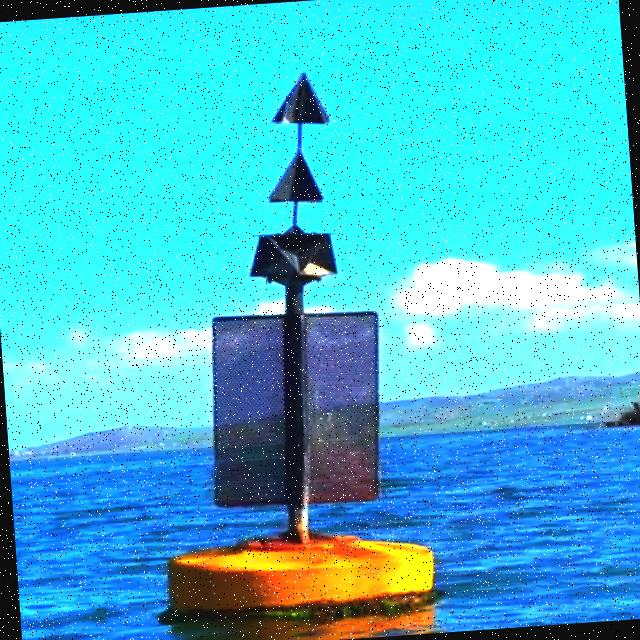marque: (117, 68, 447, 634)
